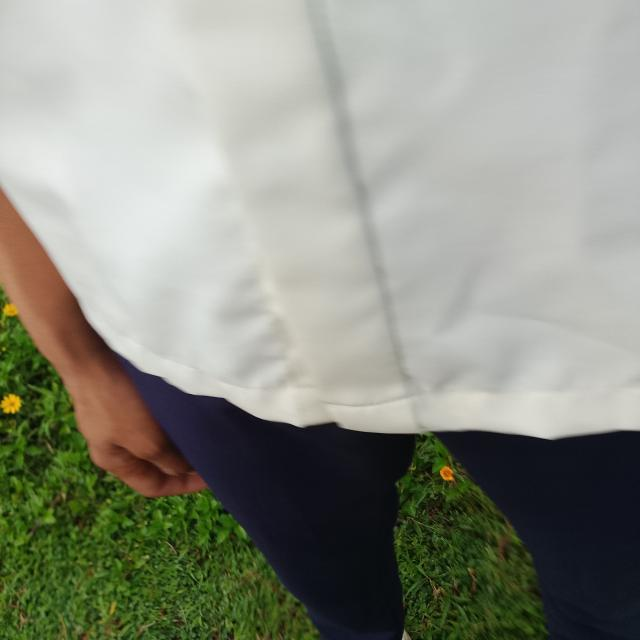education_male_uniform: (6, 0, 640, 466)
